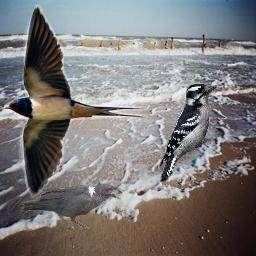Crow: (17, 182, 123, 231)
Swallow: (4, 4, 148, 199)
Woodpecker: (159, 82, 219, 183)
